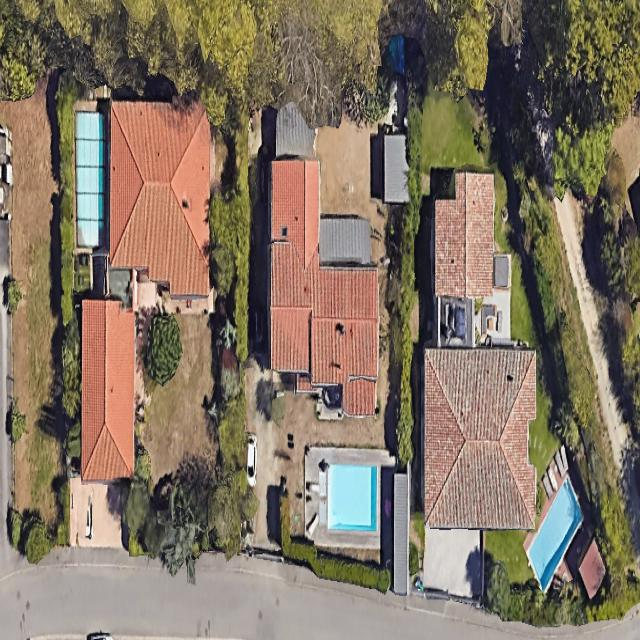maison: (268, 160, 378, 415), (424, 348, 535, 528), (108, 101, 210, 296), (81, 300, 134, 480), (431, 172, 495, 297)
